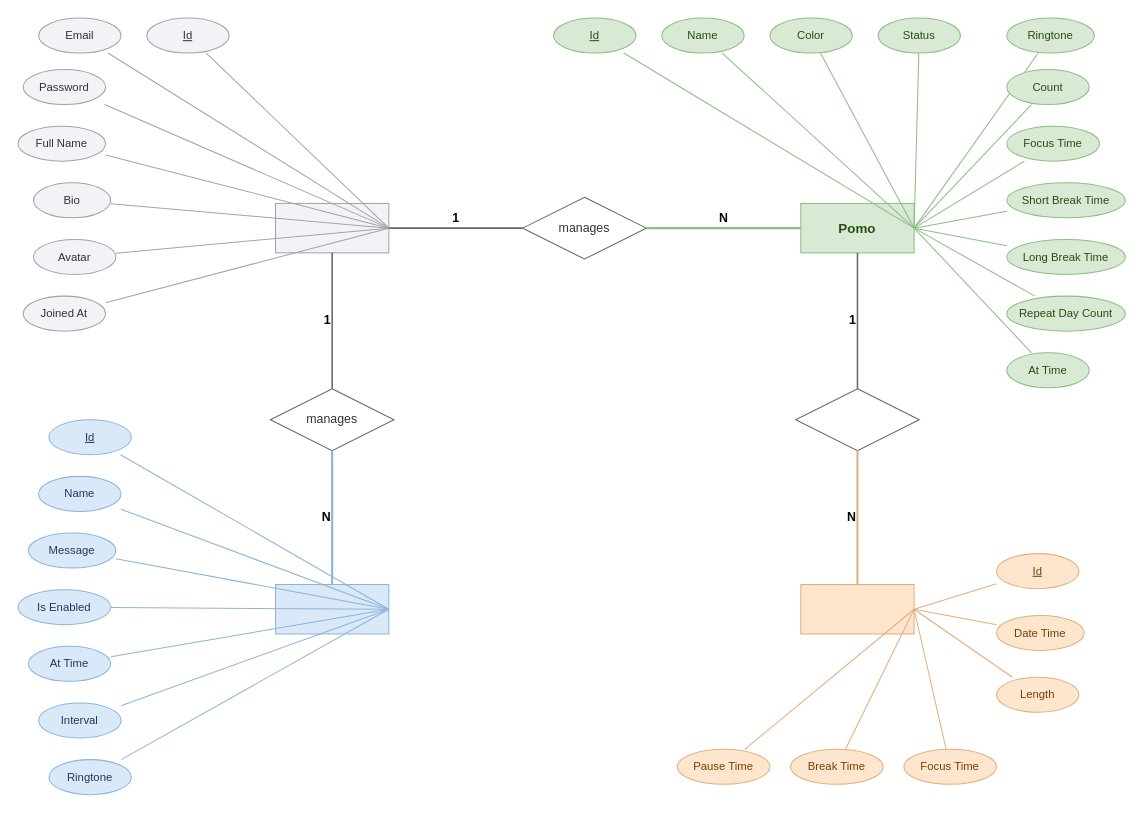
The diagram is 1143 pixels wide and 813 high, and some of its shapes have lost their labels. The centre of each missing label's shape, as x and y in pixels:
has: the point at 857,419
Pomo Record: the point at 857,608
Reminder: the point at 331,608
User: the point at 331,227
